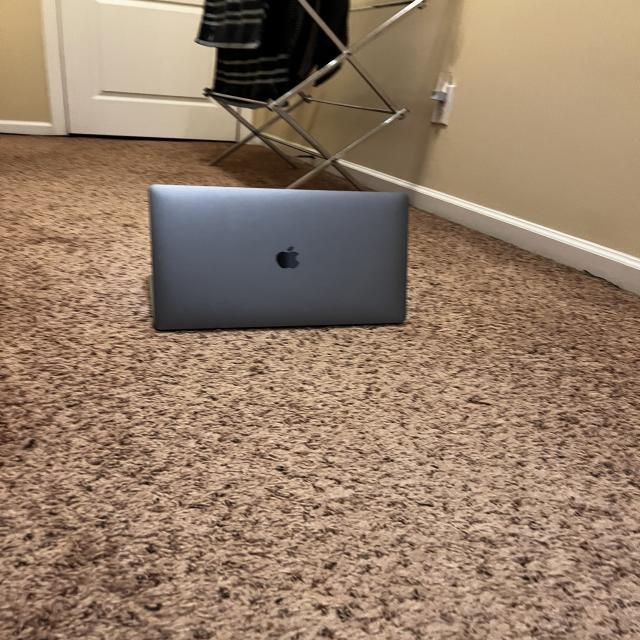laptop: (147, 182, 409, 331)
